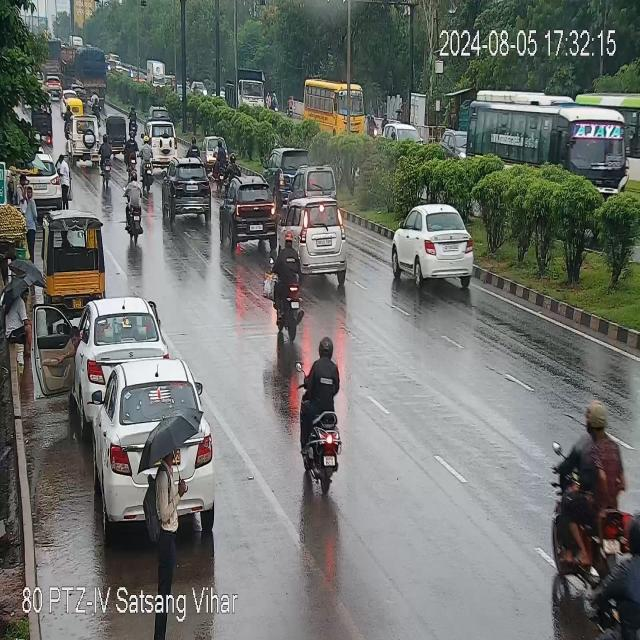2-wheelers: (546, 407, 628, 573), (304, 341, 343, 497), (589, 545, 640, 639), (269, 240, 305, 338), (124, 176, 147, 243), (95, 136, 114, 182), (214, 138, 227, 177)
auto: (42, 210, 106, 306), (108, 116, 128, 151), (45, 71, 62, 95), (65, 97, 84, 116)
bus: (470, 93, 640, 197), (304, 81, 366, 135)
car: (91, 360, 208, 532), (72, 296, 162, 403), (388, 201, 482, 288), (282, 197, 350, 282), (226, 179, 282, 252), (162, 162, 214, 225), (142, 122, 179, 168), (69, 117, 100, 164), (294, 168, 337, 200), (383, 122, 423, 148)
pedestrian: (143, 420, 186, 591), (22, 183, 42, 257)
truck: (62, 43, 108, 99), (225, 69, 266, 110), (146, 60, 168, 91)
